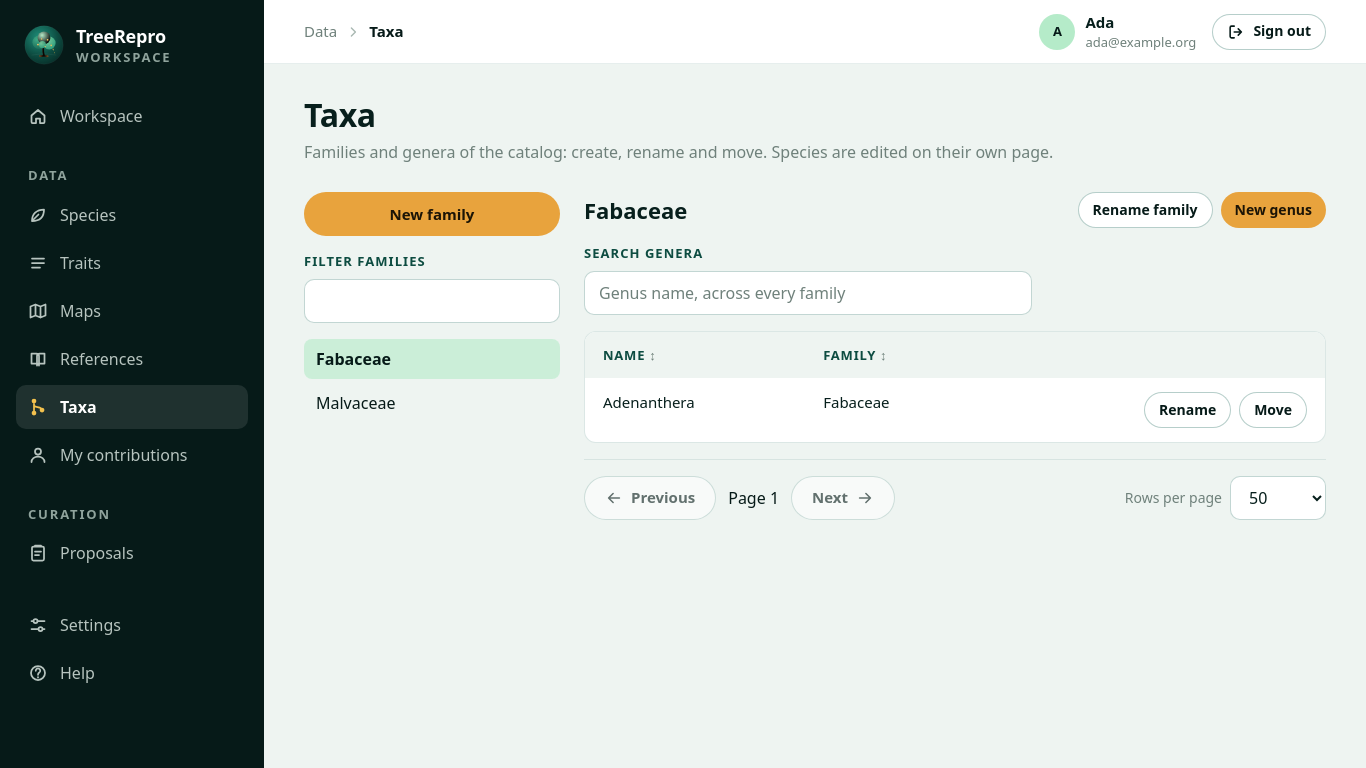
Test: RFC-60 R9 TaxaPage › filters families client-side and switches the genera list on selection
Expected: the button "Fabaceae" is shown, [304,339,560,379]
Type "malv" into the search field labelled "Filter families" at [432, 301], box [304,279,560,323]
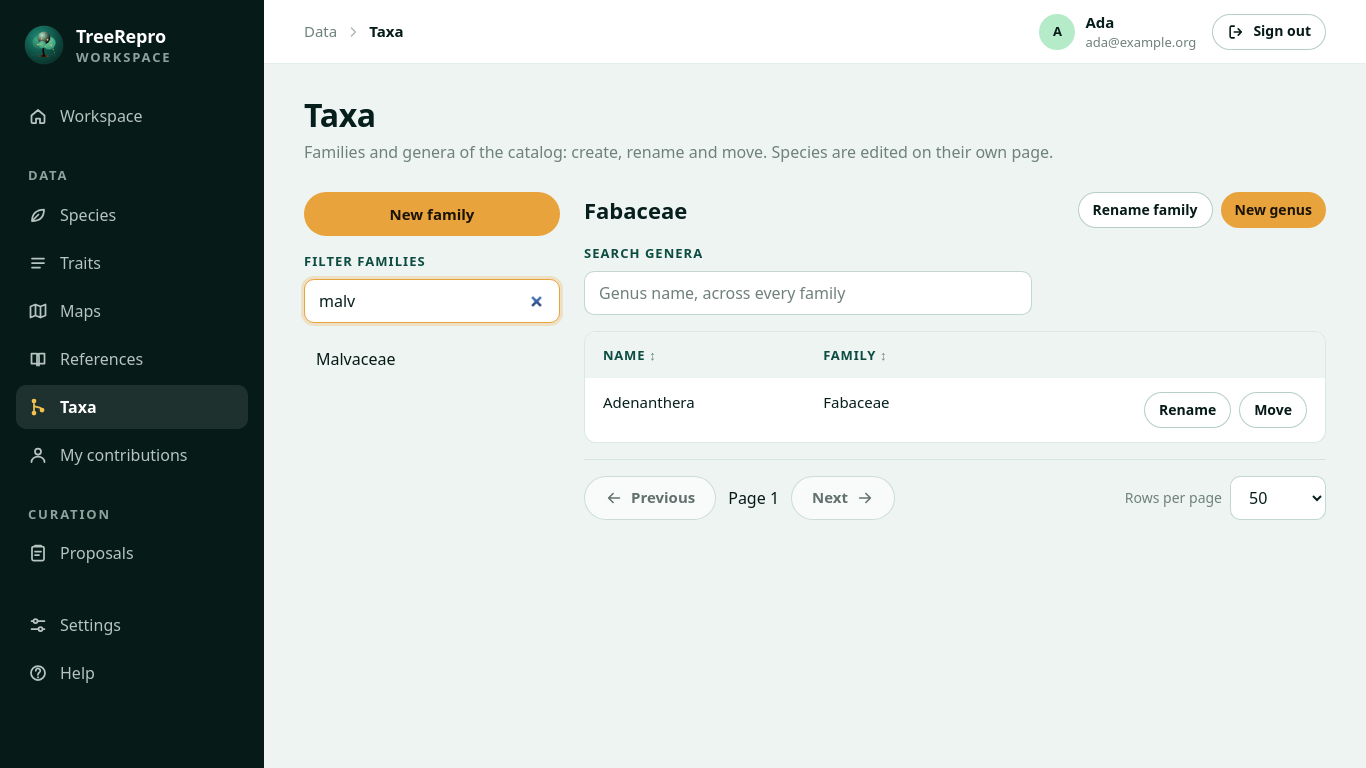
Click the button "Malvaceae" at [432, 359], box [304,339,560,379]
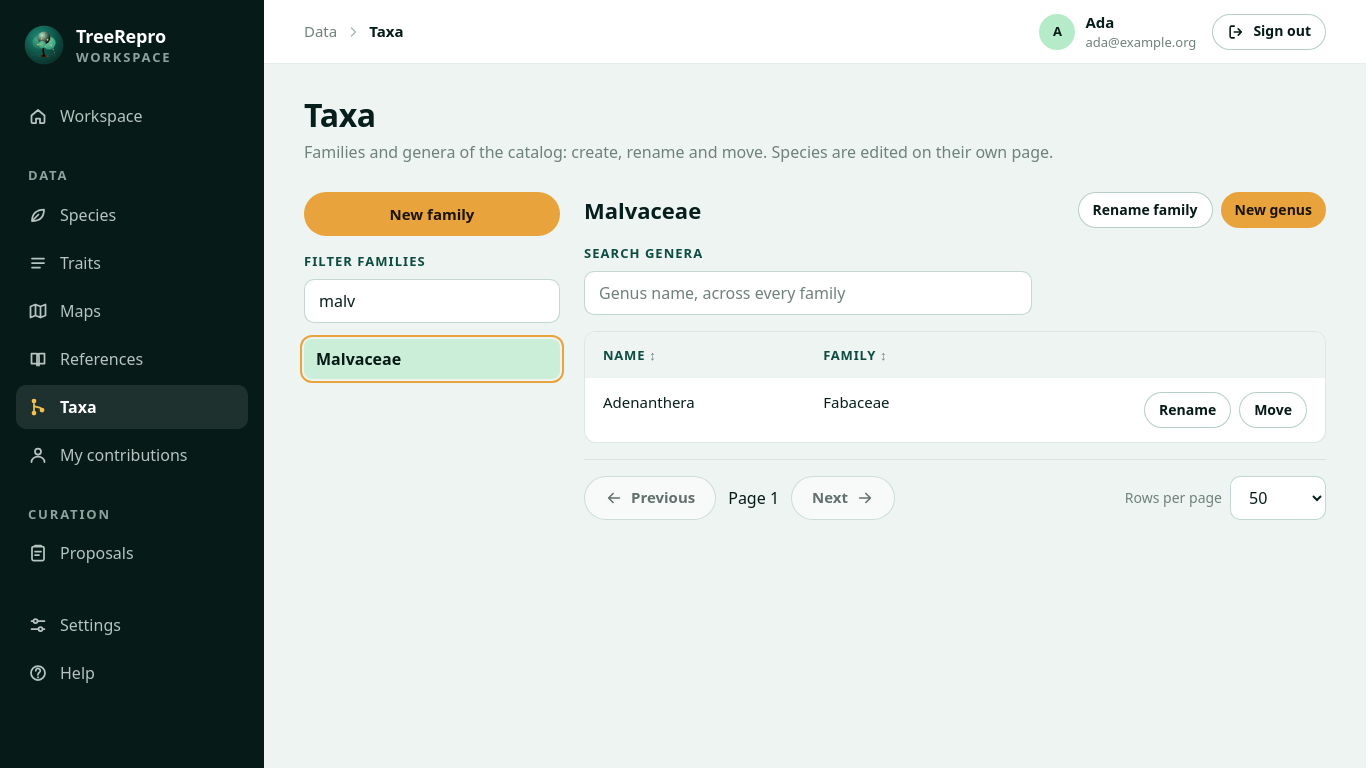
Now the heading "Malvaceae" is shown, box [584,196,701,225]
